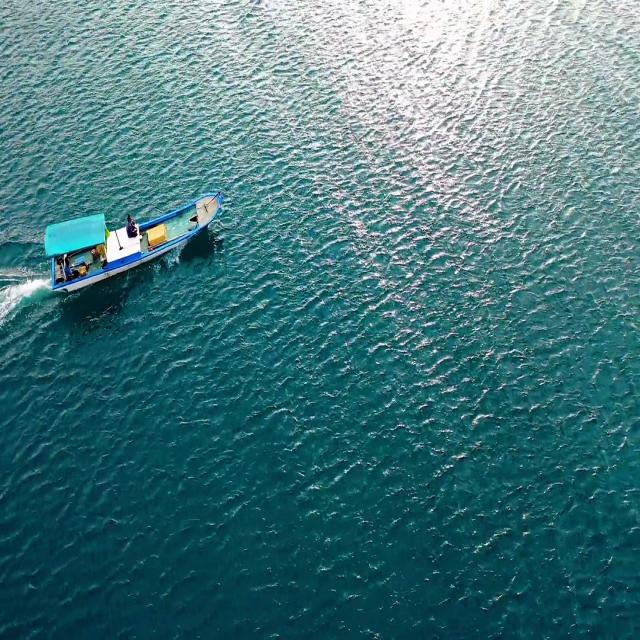ship: (41, 166, 226, 309)
